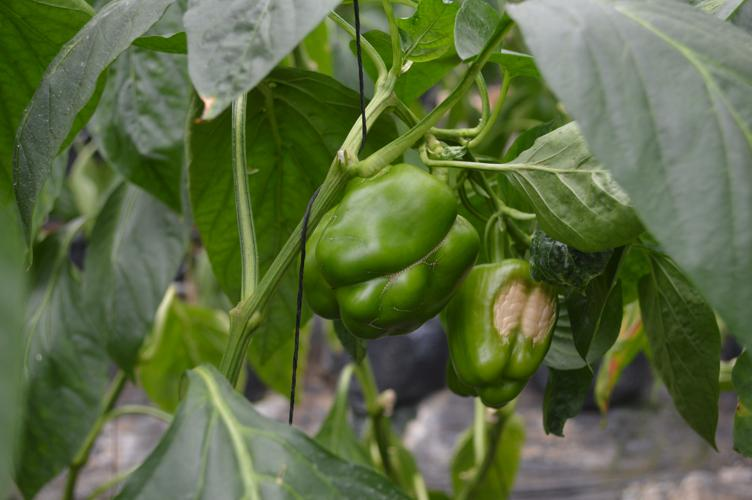BellPepper: (308, 164, 461, 332), (429, 259, 557, 404)
